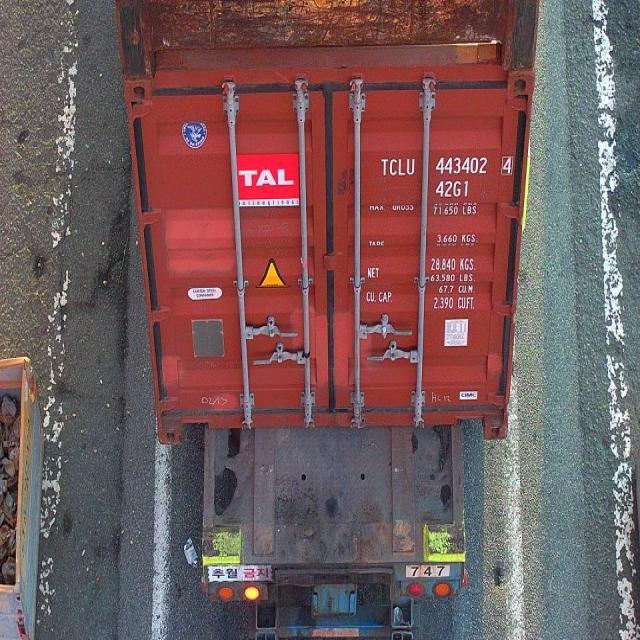ISO: (434, 180, 472, 198)
container_number: (378, 154, 514, 178)
